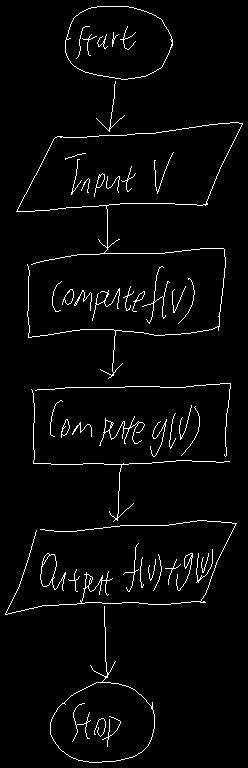arrow: (90, 606, 115, 682), (96, 81, 124, 131), (109, 463, 133, 521), (100, 330, 122, 378), (98, 205, 119, 252)
data: (5, 520, 236, 614), (16, 122, 242, 211)
process: (27, 248, 225, 337), (31, 383, 230, 464)
terminator: (50, 682, 154, 762), (65, 6, 172, 79)
text: (40, 543, 212, 602), (50, 400, 199, 456), (52, 266, 194, 323), (65, 152, 173, 196), (72, 703, 120, 746), (76, 26, 135, 58)
